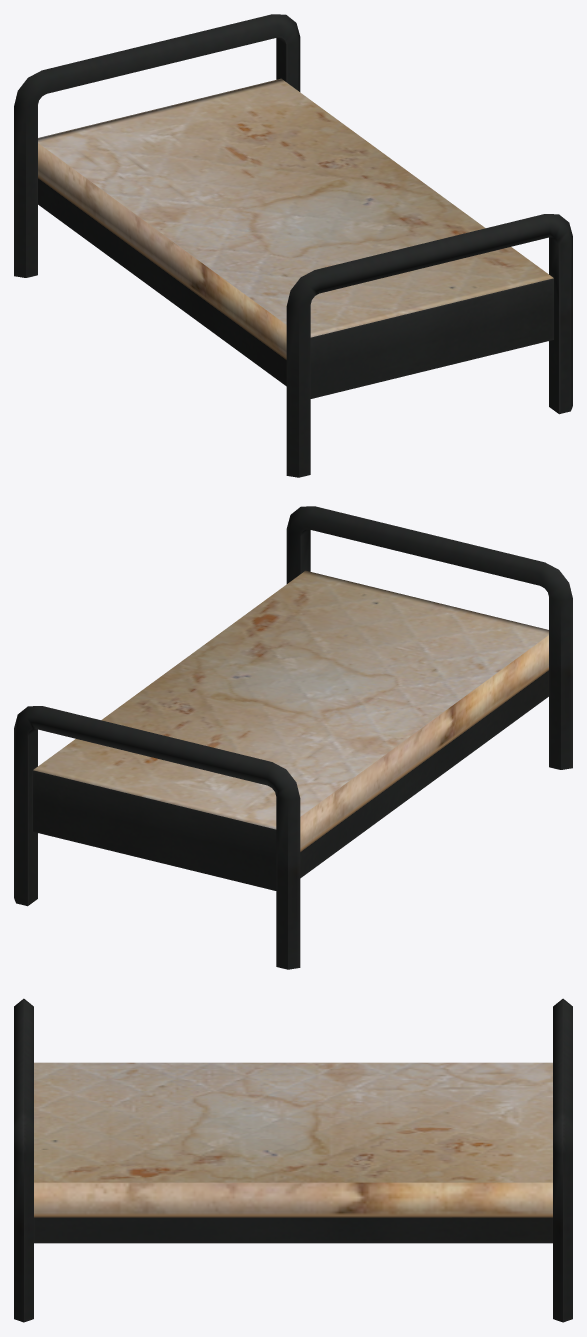
The model's file is BedMattress.fbx.
3 renders of one model, top to bottom at view 1: azimuth 30°, elevation 25°; view 2: azimuth 150°, elevation 25°; view 3: azimuth 270°, elevation 25°, orthographic.
Visible parts, largest first — view 1: Bed_Matress; view 2: Bed_Matress; view 3: Bed_Matress.
Boxes of the visible parts, left/top/right/bottom form: Bed_Matress: left=14, top=14, right=572, bottom=477; Bed_Matress: left=14, top=506, right=572, bottom=969; Bed_Matress: left=14, top=998, right=572, bottom=1322.
Size of the model in its own units: 109 by 72.12 by 186.
